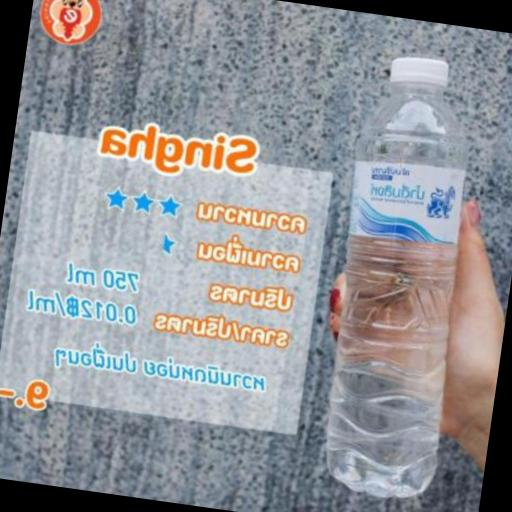Coca: (305, 42, 500, 510)
